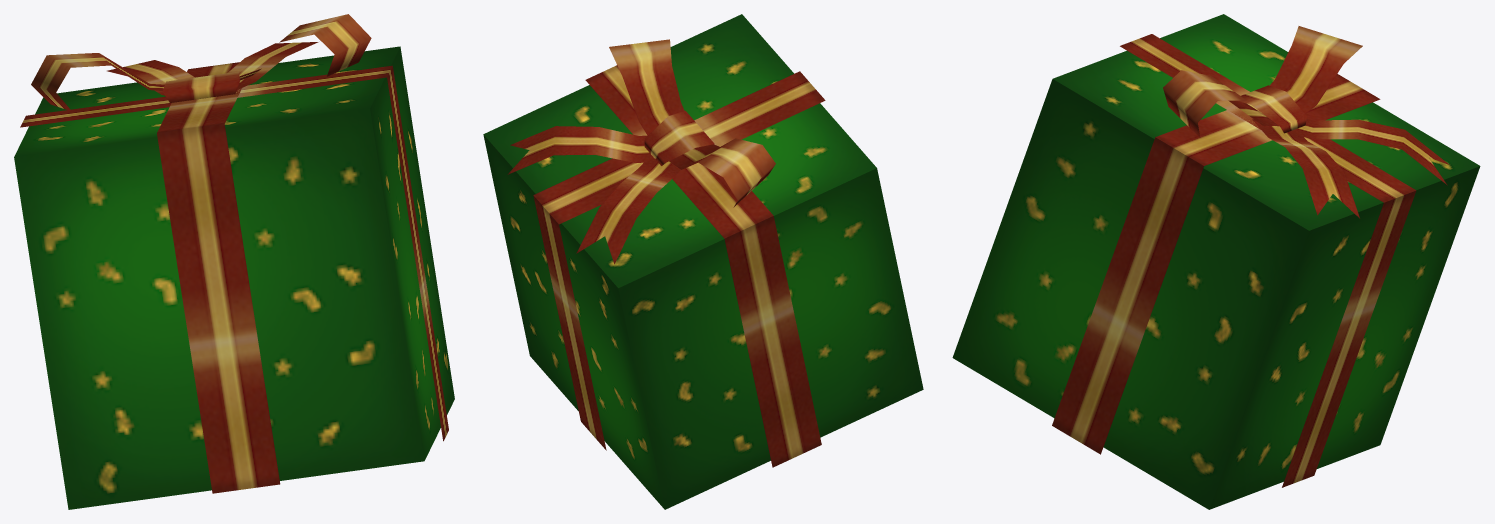
Rendered from GiftBox_A.glb.
3 views of the same model, side by side, from view 1: azimuth 30°, elevation 25°; view 2: azimuth 150°, elevation 25°; view 3: azimuth 270°, elevation 25° (orthographic). The views are drawn at different scales.
Visible parts, largest first — view 1: PQ_Ch_GiftBox_A(Clone); view 2: PQ_Ch_GiftBox_A(Clone); view 3: PQ_Ch_GiftBox_A(Clone).
Boxes of the visible parts, bbox=[...] form: PQ_Ch_GiftBox_A(Clone): bbox=[14, 14, 454, 509]; PQ_Ch_GiftBox_A(Clone): bbox=[483, 14, 923, 509]; PQ_Ch_GiftBox_A(Clone): bbox=[952, 14, 1480, 509].
Size of the model in its own units: 55.62 by 57.26 by 65.11.
Materials: 2 (2 with a texture image).
